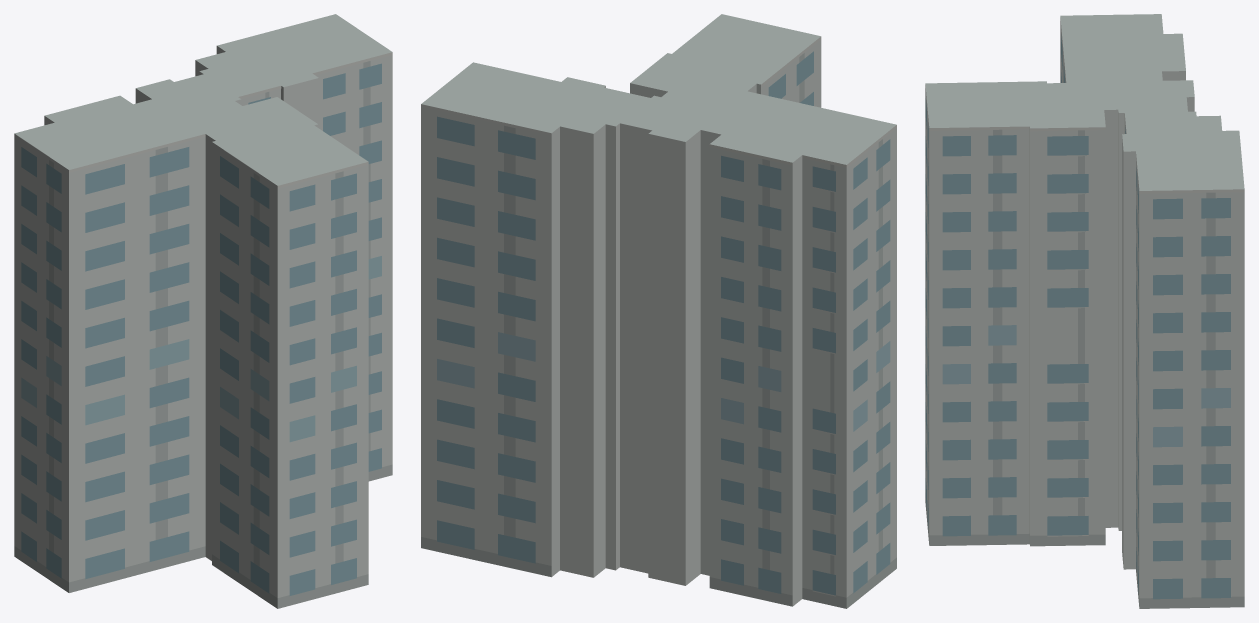
The model's file is survey-upis-32515935.glb.
3 views of the same model, side by side, from view 1: azimuth 30°, elevation 25°; view 2: azimuth 150°, elevation 25°; view 3: azimuth 270°, elevation 25° (orthographic). The views are drawn at different scales.
Parts seen in each view (by area): view 1: survey-upis-32515935.tmp; view 2: survey-upis-32515935.tmp; view 3: survey-upis-32515935.tmp.
Part boxes in pixels (x1=…): survey-upis-32515935.tmp: x1=14, y1=14, x2=392, y2=608; survey-upis-32515935.tmp: x1=421, y1=14, x2=896, y2=608; survey-upis-32515935.tmp: x1=925, y1=14, x2=1244, y2=608.
Size of the model in its own units: 32.62 by 35.9 by 24.86.
